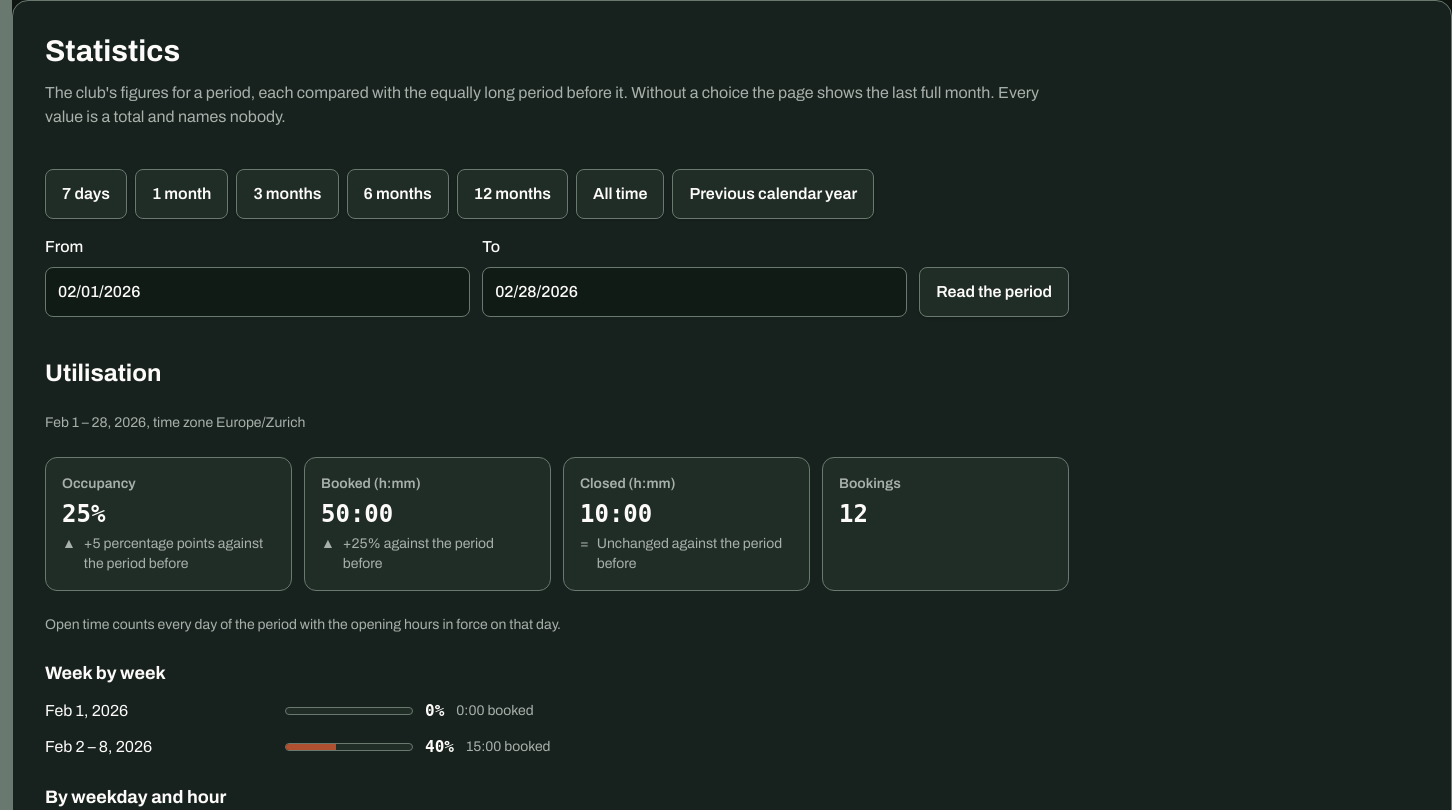
it: AdminStatisticsView › given a free range, when a board reads it, then the address carries it and the sections read it
expect the button with test id "statistics-choice-1m" is enabled: met, box [135, 169, 228, 219]
Step 1. Replace the text in the field with test id "utilisation-from" with "2025-11-03" → (258, 292), box [45, 267, 470, 317]
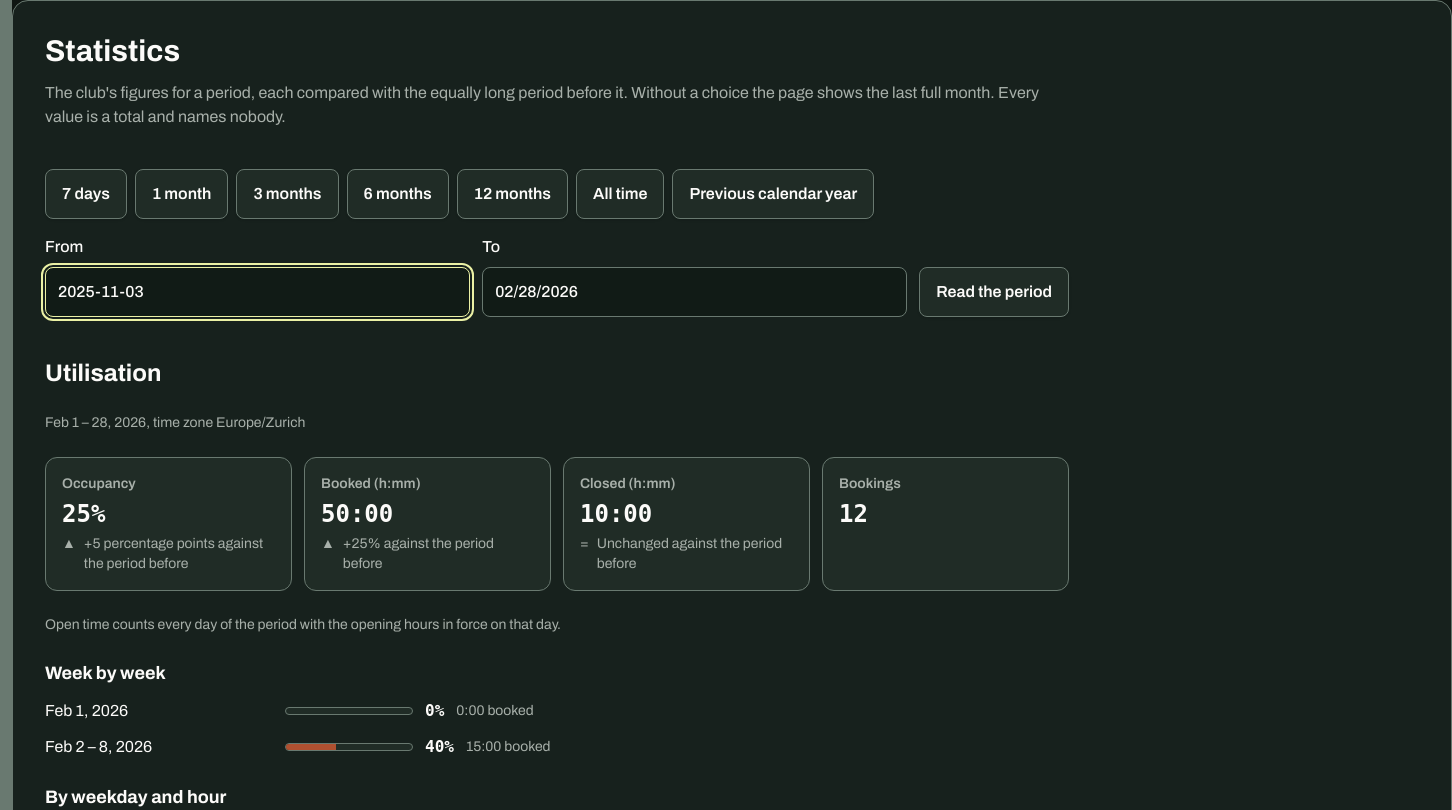
Step 2. Replace the text in the field with test id "utilisation-to" with "2025-11-16" → (695, 292), box [482, 267, 907, 317]
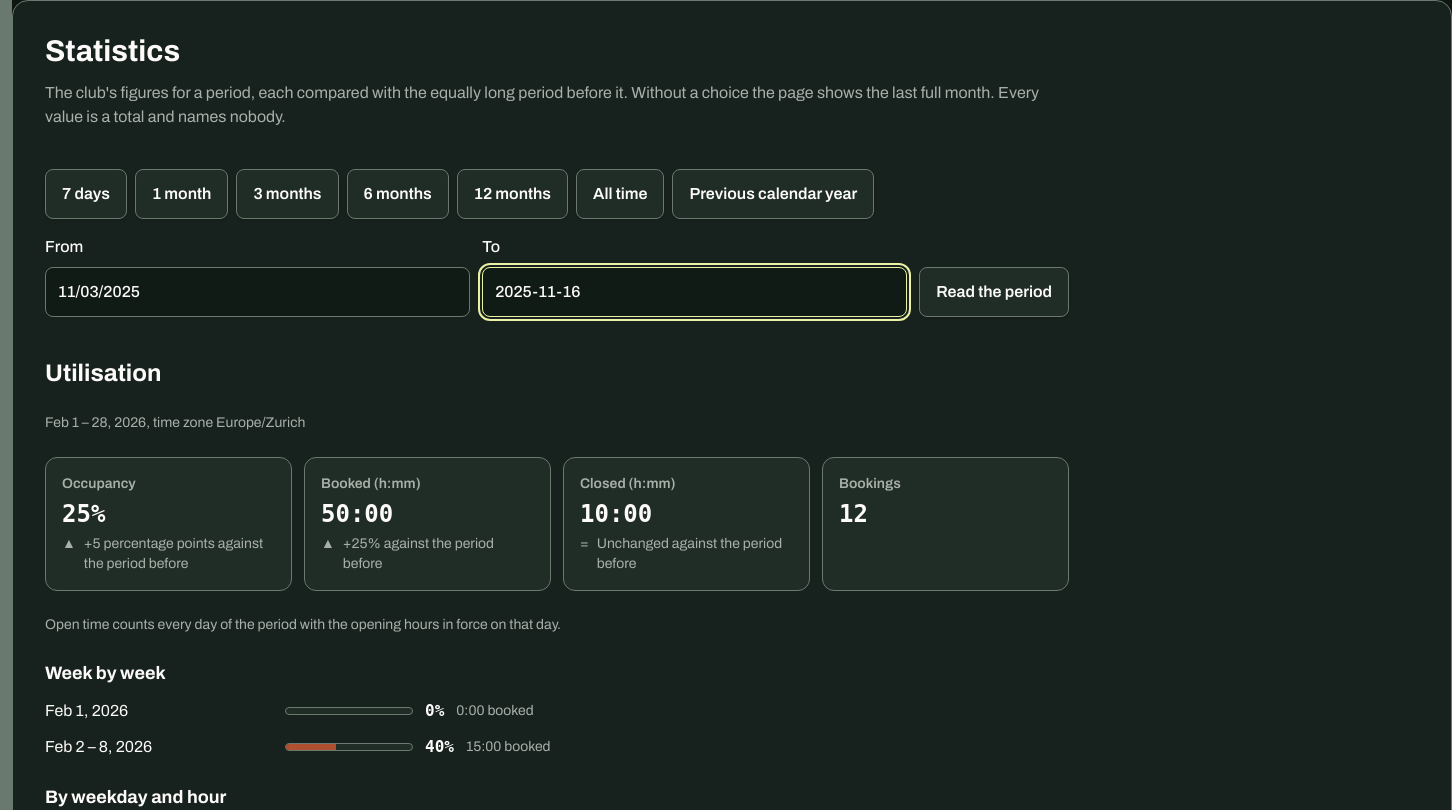
Step 3. Click the button with test id "utilisation-read" → (994, 292), box [919, 267, 1069, 317]
(page scrolled)
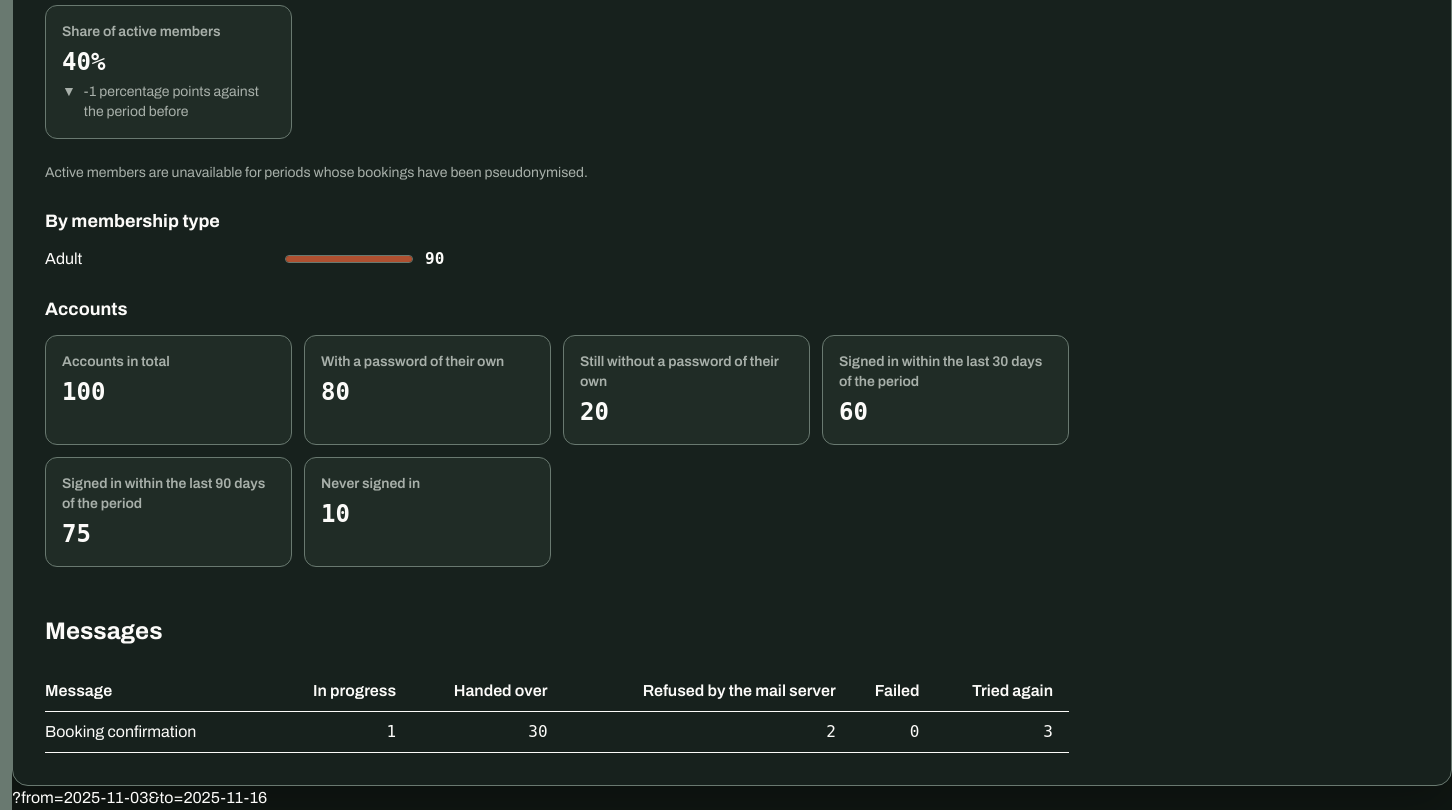
expect the text with test id "address" reads "?from=2025-11-03&to=2025-11-16": met, box [12, 789, 267, 806]
